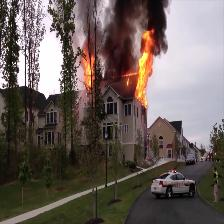fire: (81, 52, 98, 91), (138, 51, 150, 101)
smoke: (107, 4, 135, 72), (144, 3, 166, 39)
